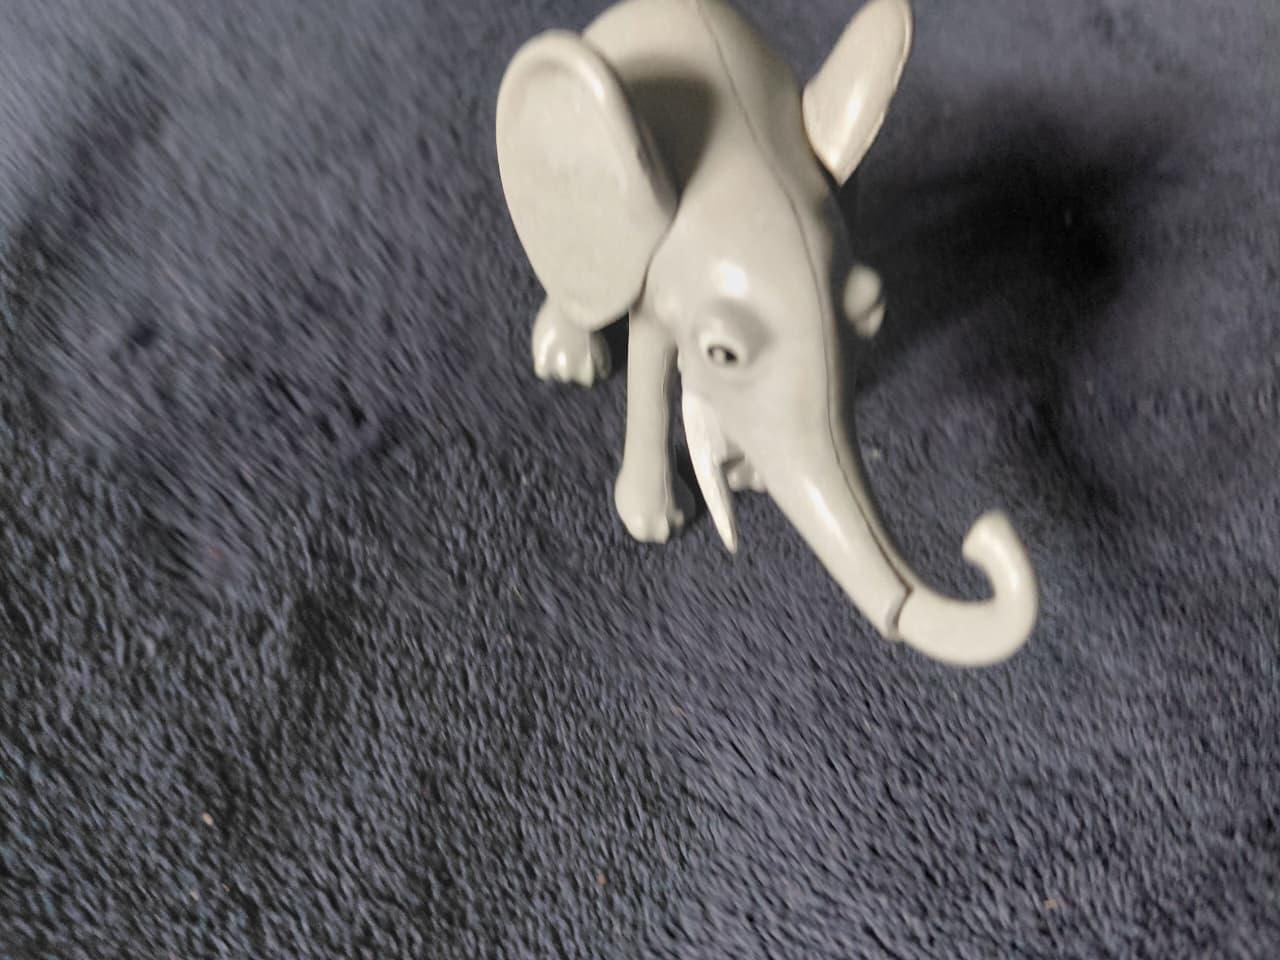elephant: (484, 4, 1075, 675)
